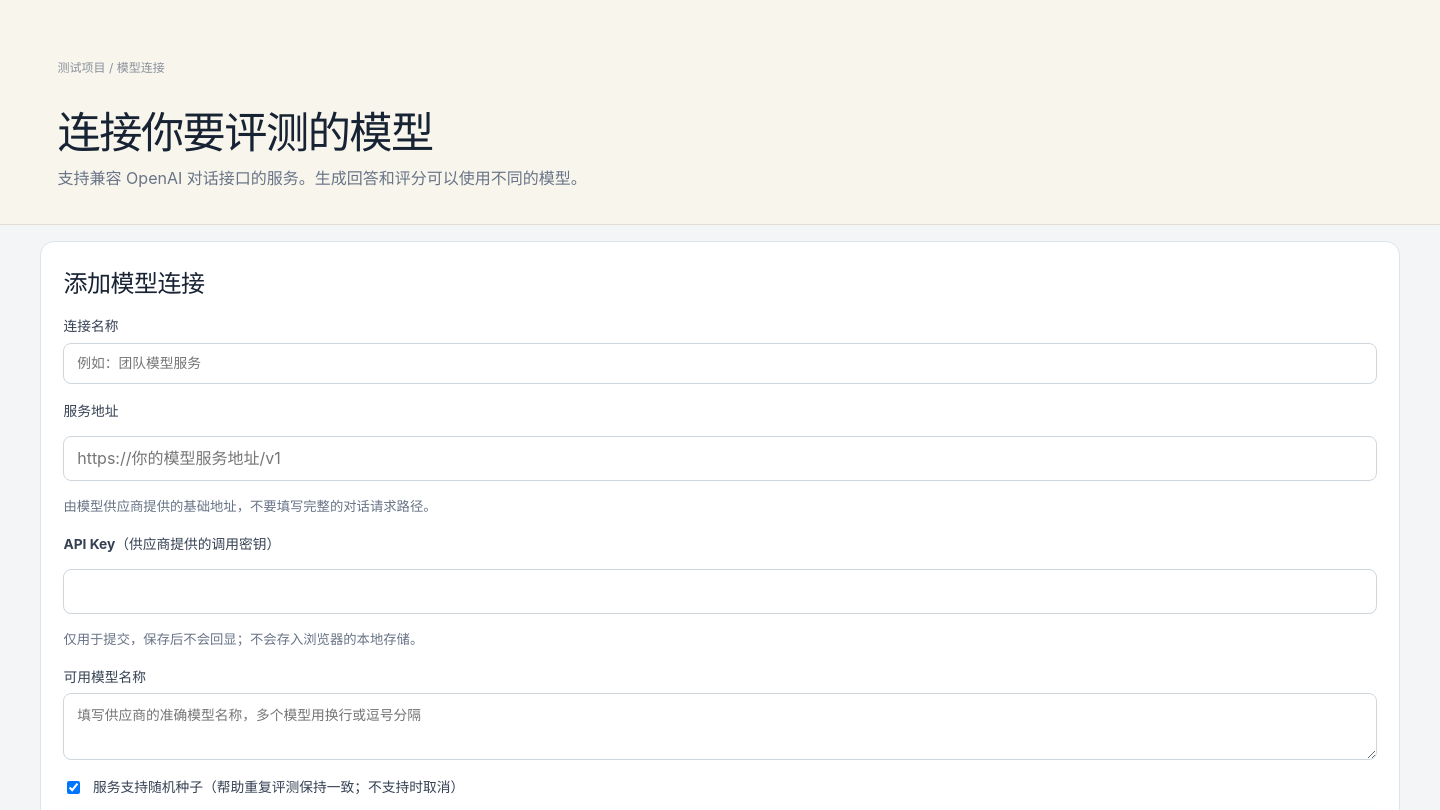
非技术用户真实表单交互（模拟网络边界，不调用付费模型） › 创建模型连接失败也清空密钥，不写入本地存储
Type "测试连接" into the field labelled "连接名称". click: (720, 363)
box: [63,343,1377,384]
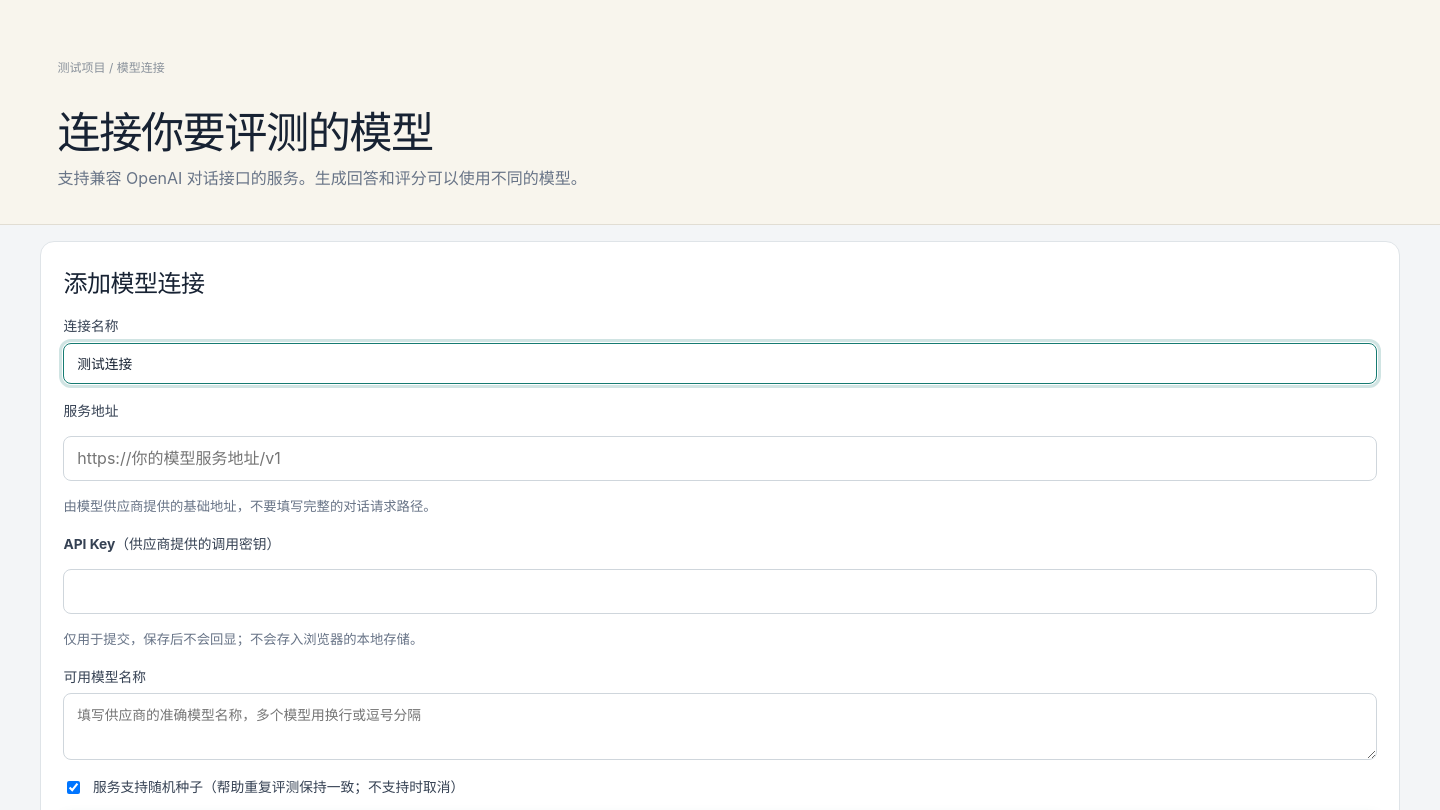
Type "https://example.com/v1" into the field labelled "服务地址". click: (720, 458)
box: [63,436,1377,481]
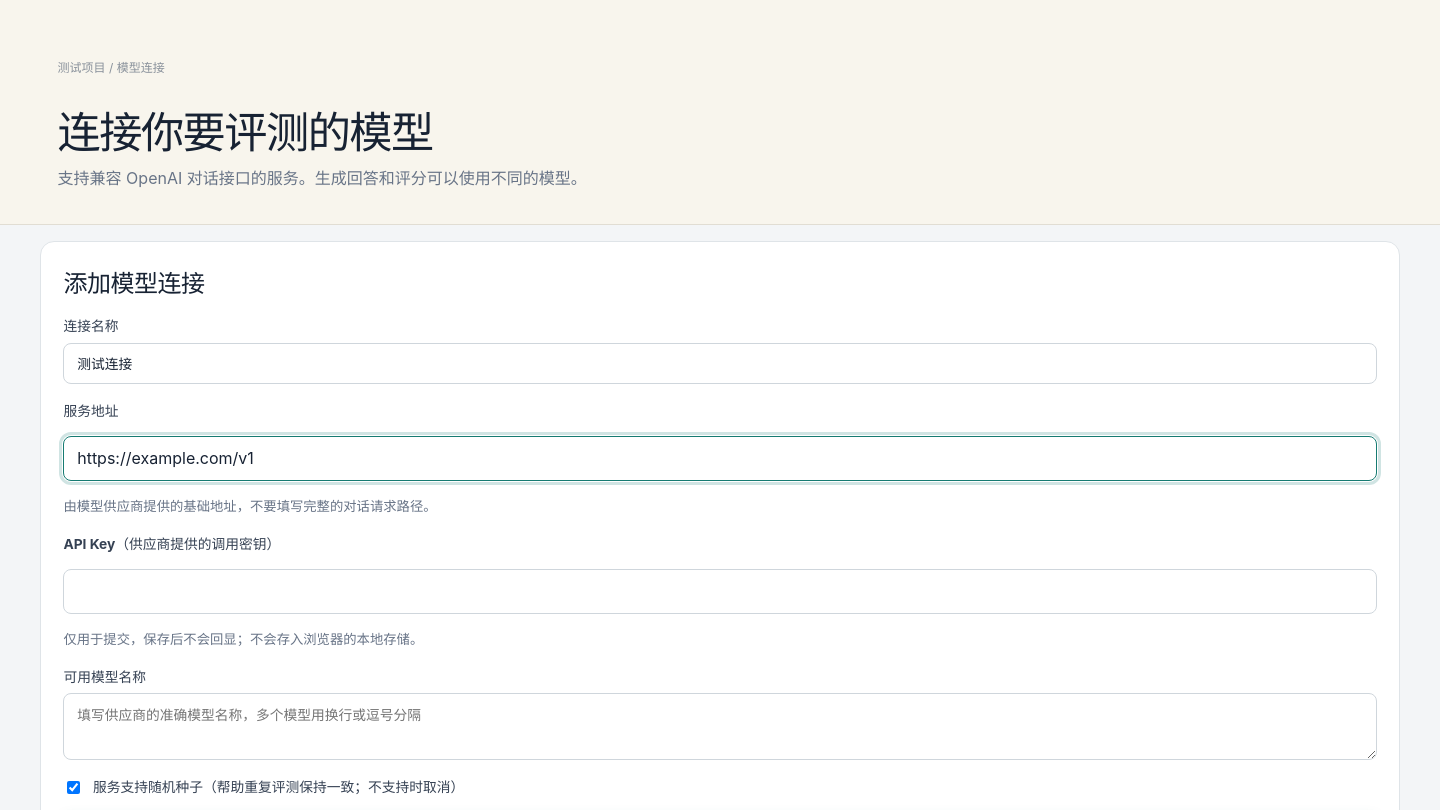
Type "test-secret-only" into the password field labelled "API Key（供应商提供的调用密钥）". click: (720, 591)
box: [63,569,1377,614]
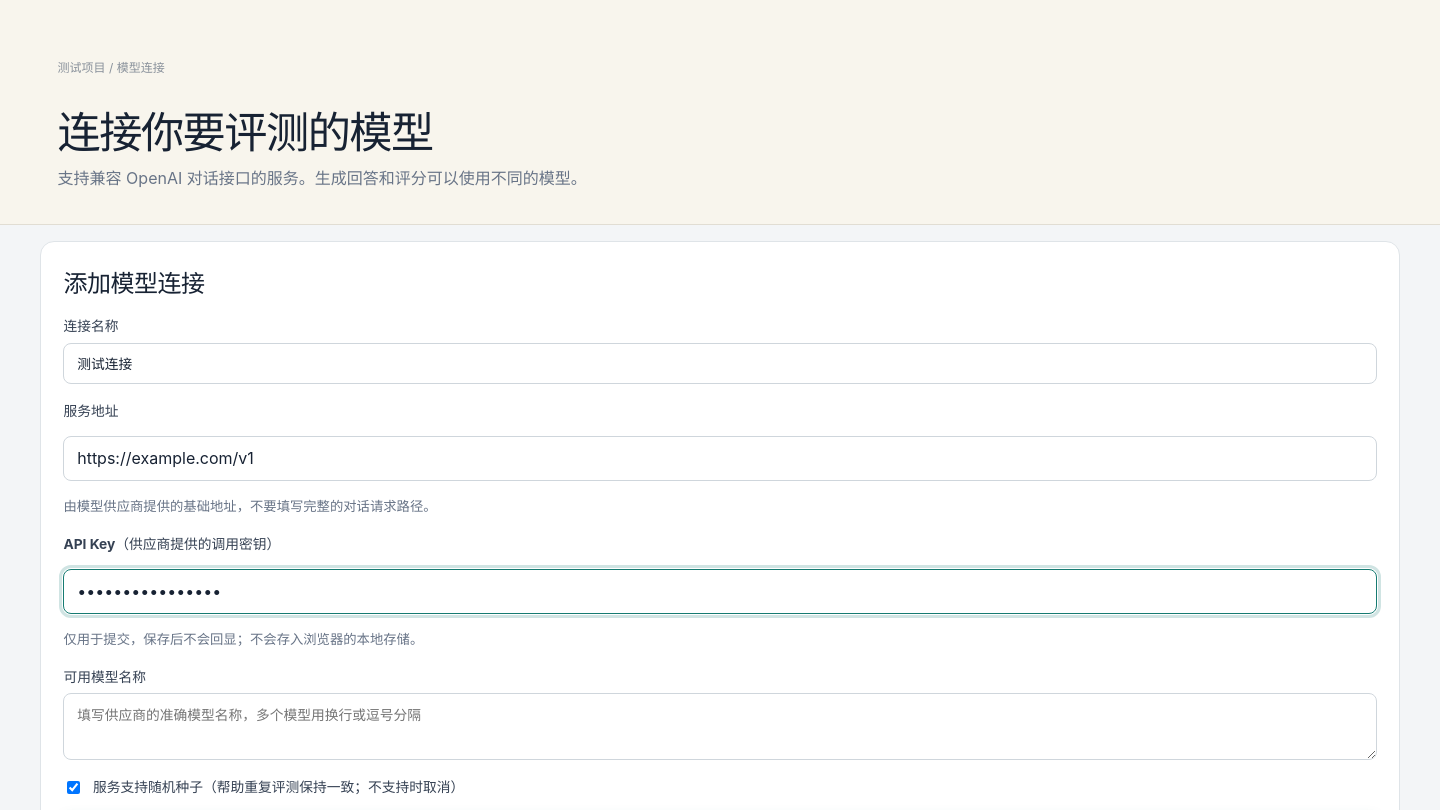
Type "model-a,model-a,model-b" into the text box labelled "可用模型名称". click: (720, 727)
box: [63,693,1377,760]
(page scrolled)
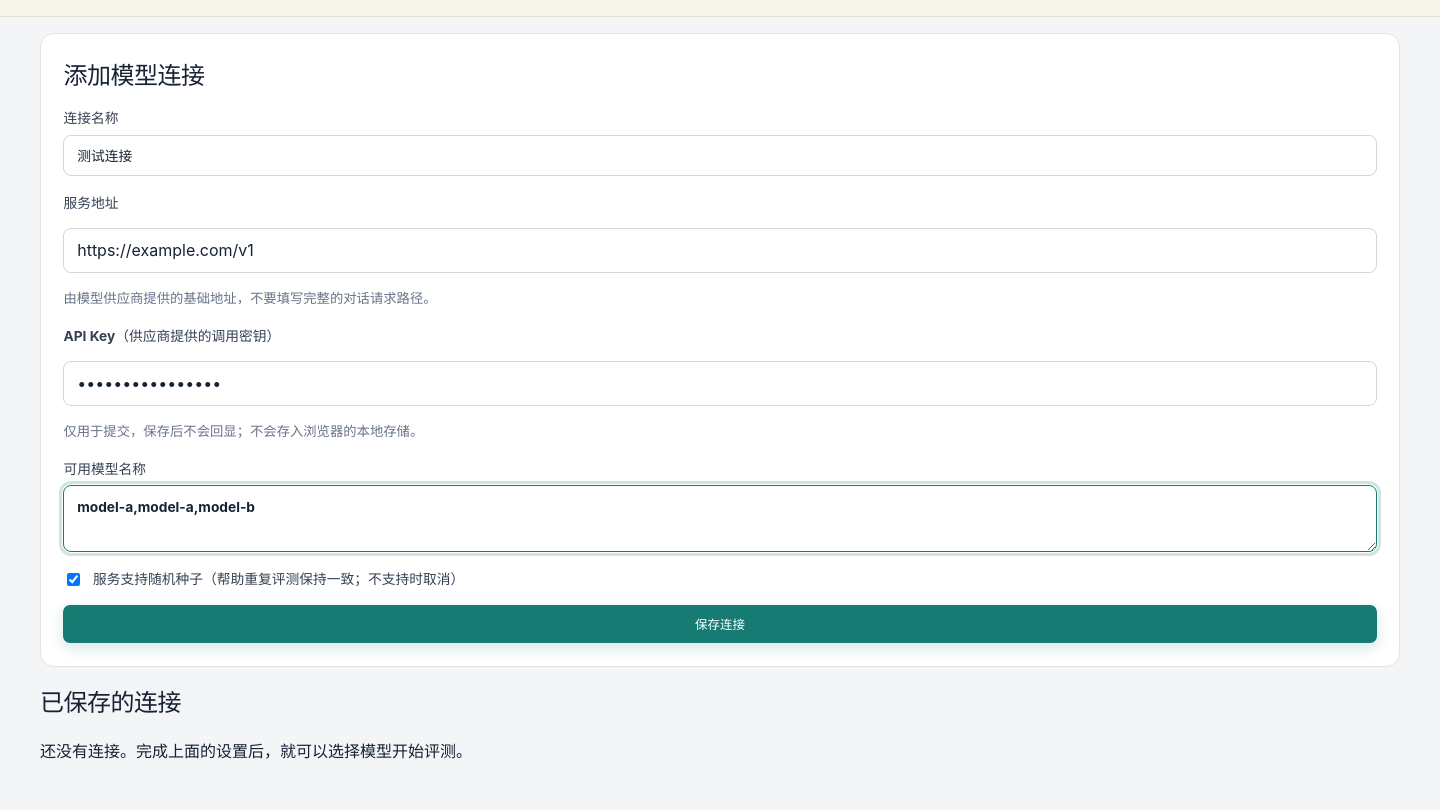
Click the button "保存连接". click: (720, 624)
box: [63,605,1377,643]
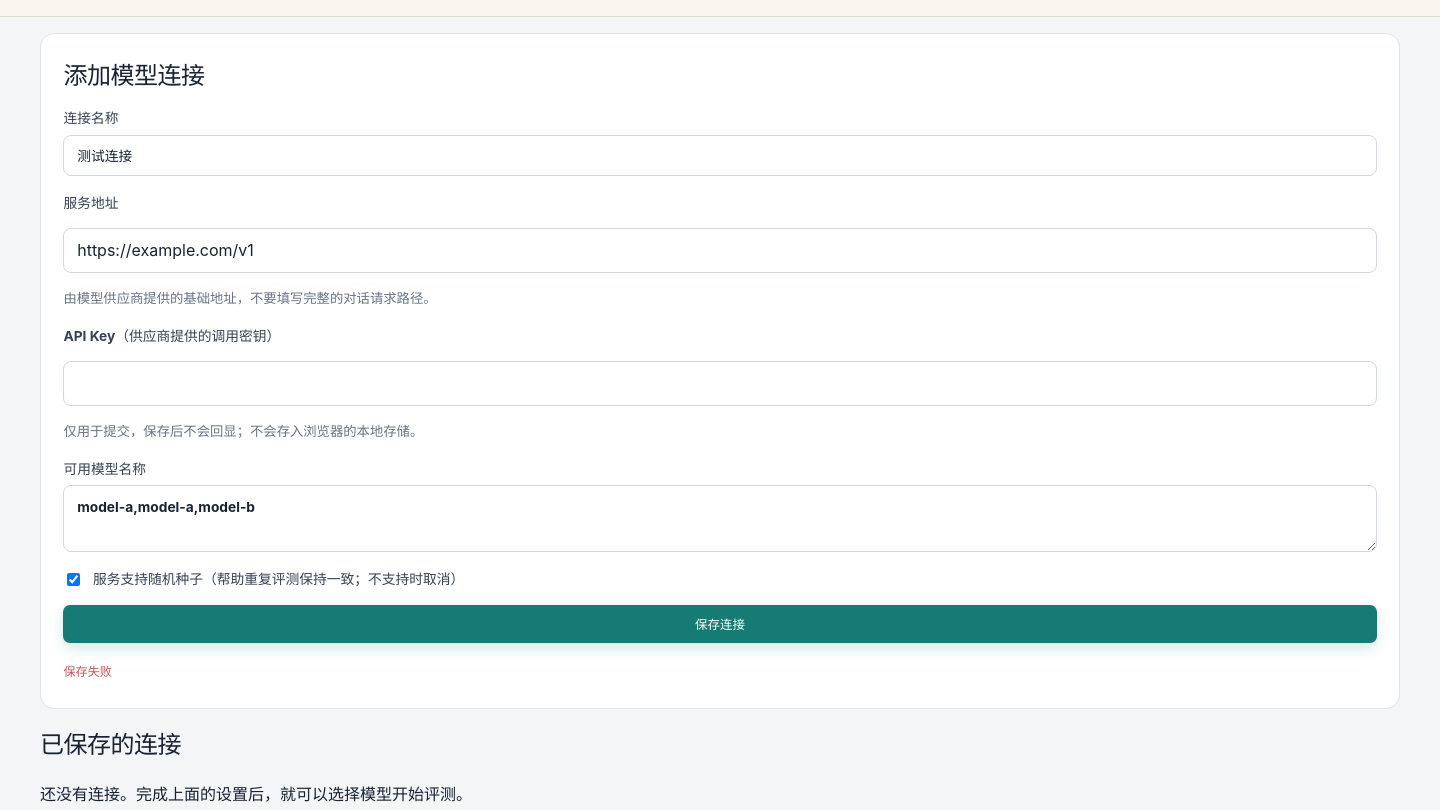
expect the password field labelled "API Key（供应商提供的调用密钥）" is empty: met, box [63,361,1377,406]
expect the message reads "保存失败": met, box [63,664,112,679]
